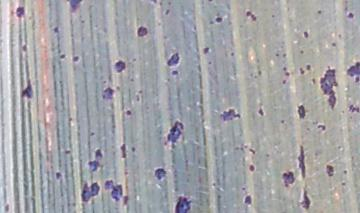tarspot: (319, 64, 340, 112), (162, 121, 185, 148), (103, 177, 125, 204), (80, 180, 101, 204), (86, 147, 103, 175), (218, 106, 242, 123), (172, 194, 193, 213), (296, 143, 307, 179), (345, 59, 360, 84), (300, 180, 312, 210), (19, 78, 35, 100), (64, 1, 85, 15), (280, 171, 296, 189), (164, 50, 180, 67), (152, 166, 168, 181), (100, 86, 115, 101), (118, 141, 128, 161), (112, 60, 126, 74), (244, 9, 258, 23), (296, 102, 306, 121), (324, 163, 335, 180), (135, 25, 149, 38), (14, 5, 26, 19), (242, 193, 253, 207), (346, 103, 360, 114), (232, 144, 245, 155), (246, 162, 257, 174), (213, 15, 224, 26), (122, 194, 131, 207), (20, 41, 29, 53), (256, 104, 264, 117), (316, 123, 327, 132), (246, 147, 257, 156), (2, 203, 11, 213), (54, 170, 63, 180), (71, 54, 80, 64), (62, 147, 72, 156), (345, 11, 355, 20), (162, 7, 171, 17), (297, 66, 305, 77), (342, 1, 349, 13), (58, 52, 67, 61), (170, 68, 179, 77), (202, 46, 210, 56), (190, 23, 198, 33), (301, 30, 309, 39), (130, 144, 137, 154), (135, 93, 141, 104), (125, 109, 133, 117), (51, 26, 59, 34), (278, 118, 286, 126), (254, 57, 262, 65), (89, 130, 96, 139), (310, 76, 317, 85), (256, 68, 263, 77), (225, 1, 232, 10), (66, 115, 73, 123), (114, 84, 121, 92), (341, 168, 349, 175), (78, 18, 86, 25), (101, 26, 109, 33), (336, 143, 343, 151), (210, 182, 219, 188), (281, 78, 287, 87), (303, 127, 313, 132), (136, 88, 143, 95), (130, 56, 137, 63), (92, 21, 99, 28), (329, 41, 337, 47), (305, 63, 311, 71), (280, 52, 288, 58), (281, 65, 289, 71), (206, 58, 212, 66), (101, 79, 107, 87), (226, 19, 232, 27), (146, 1, 157, 5), (316, 8, 322, 15), (239, 185, 246, 191), (216, 193, 222, 200), (283, 71, 290, 77), (228, 50, 234, 57), (166, 1, 173, 7), (128, 77, 135, 83), (208, 18, 213, 26), (237, 23, 245, 28), (264, 152, 270, 158), (269, 13, 275, 19), (337, 32, 342, 39), (340, 181, 346, 186), (298, 49, 304, 54), (274, 53, 280, 58), (204, 1, 214, 4), (158, 1, 163, 7), (163, 34, 168, 40), (156, 21, 161, 27), (248, 72, 253, 77)
